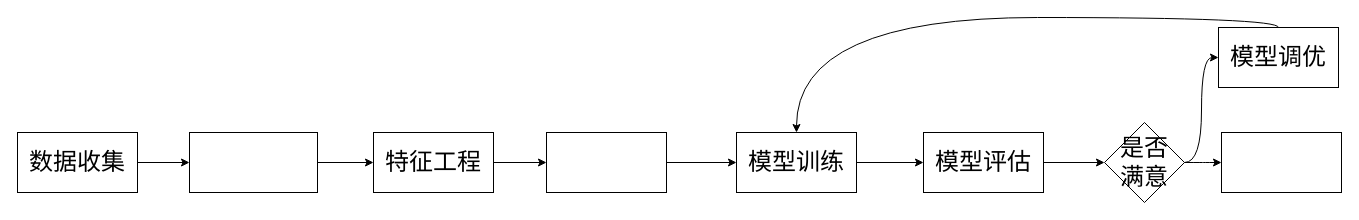
Image size: 1359x220. Some labels were removed from this diagram. The shapes that lost their labels are listed below. From the top down, each one's centre as x and y in pixels, then its label:
At (253,162): "数据预处理".
At (606,162): "模型选择".
At (1281,162): "模型部署".
